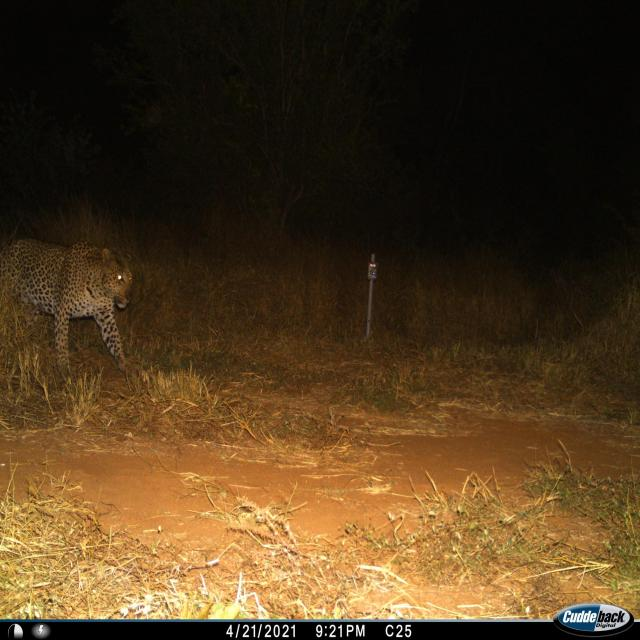Leopard: (0, 230, 141, 388)
